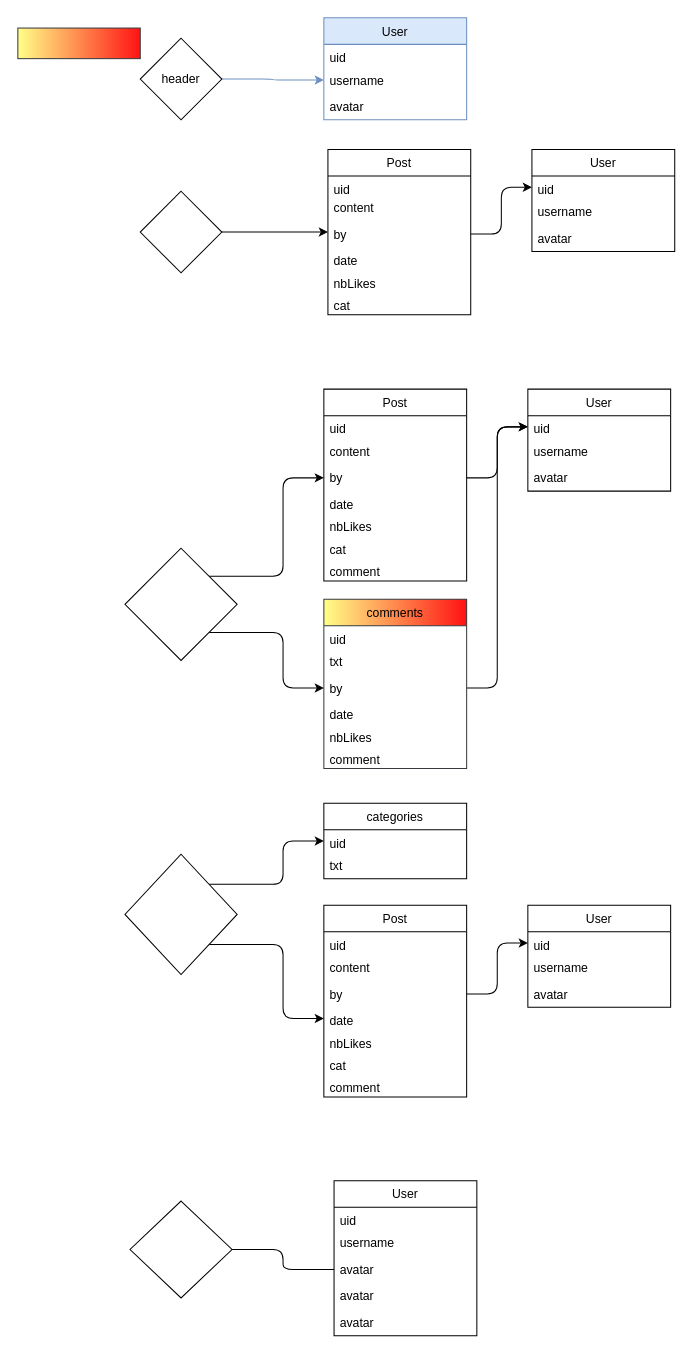
The diagram is 693 pixels wide and 1357 high, and some of its shapes have lost their labels. Each missing label, with the centre of its shape:
"recursif": (x=78, y=43)
Accueil: (x=180, y=231)
Afficher profil utilisateur (post / comment): (x=180, y=1249)
Page Recherche: (x=180, y=914)
Post + commentaires: (x=180, y=603)
